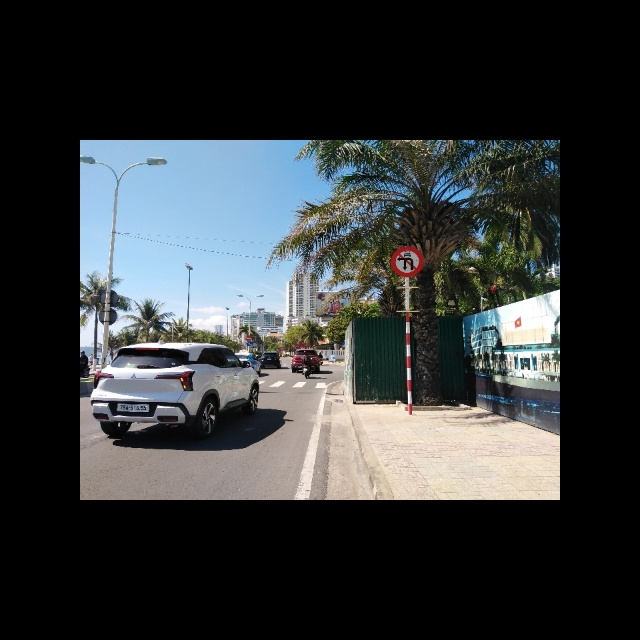Cấm xe ô tô quay đầu và rẽ trái: (391, 246, 424, 277)
